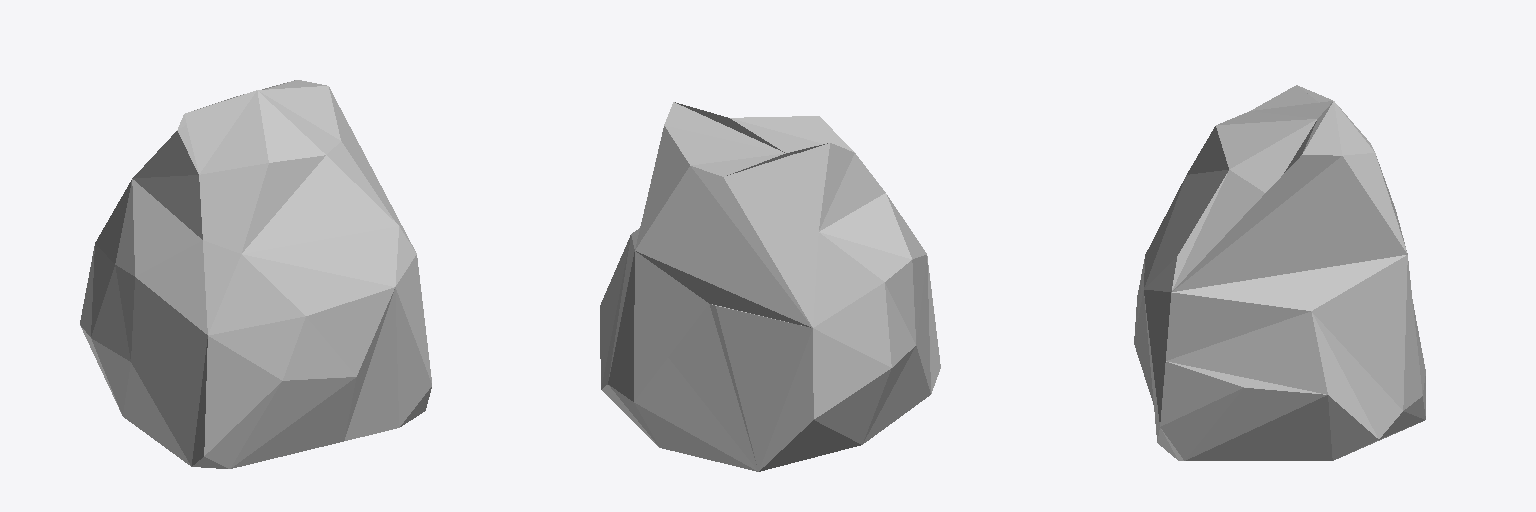
File: designRock_2.obj
3 renders of one model, left to right at view 1: azimuth 30°, elevation 25°; view 2: azimuth 150°, elevation 25°; view 3: azimuth 270°, elevation 25°, orthographic.
Parts seen in each view (by area): view 1: pCube1; view 2: pCube1; view 3: pCube1.
Part boxes in pixels (bbox=[...]): pCube1: bbox=[80, 80, 431, 468]; pCube1: bbox=[600, 102, 940, 471]; pCube1: bbox=[1134, 85, 1425, 460].
Size of the model in its own units: 1.52 by 1.48 by 1.33.